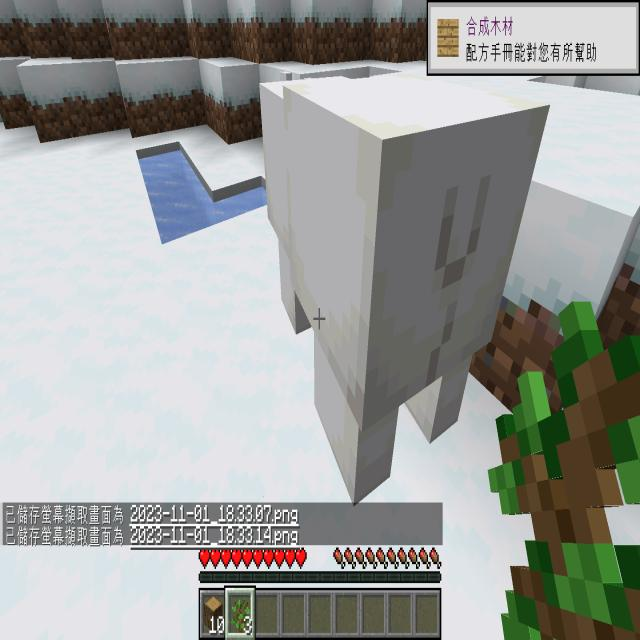Polar Bear: (238, 34, 566, 532)
